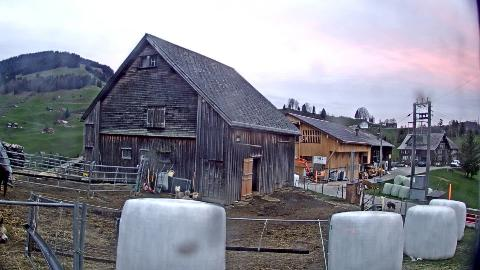car: (451, 160, 460, 166), (418, 161, 426, 167)
sheep: (379, 196, 397, 212), (0, 217, 8, 244), (175, 186, 185, 198), (182, 190, 192, 200), (190, 192, 200, 201)
